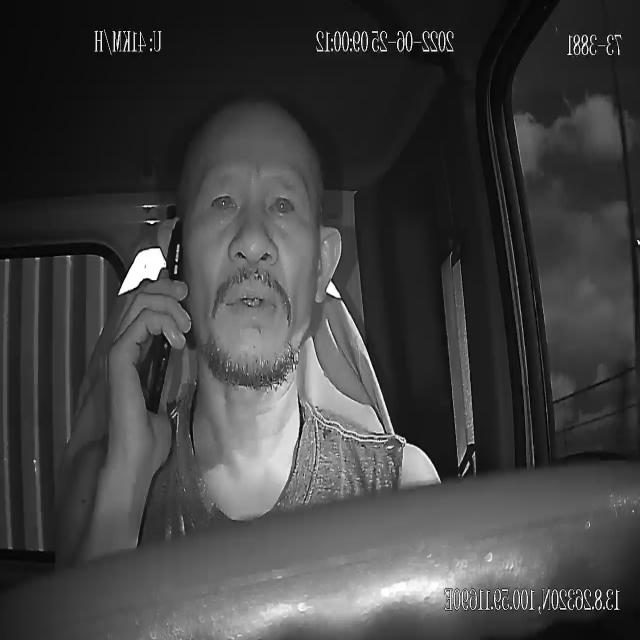phone: (147, 217, 185, 415)
